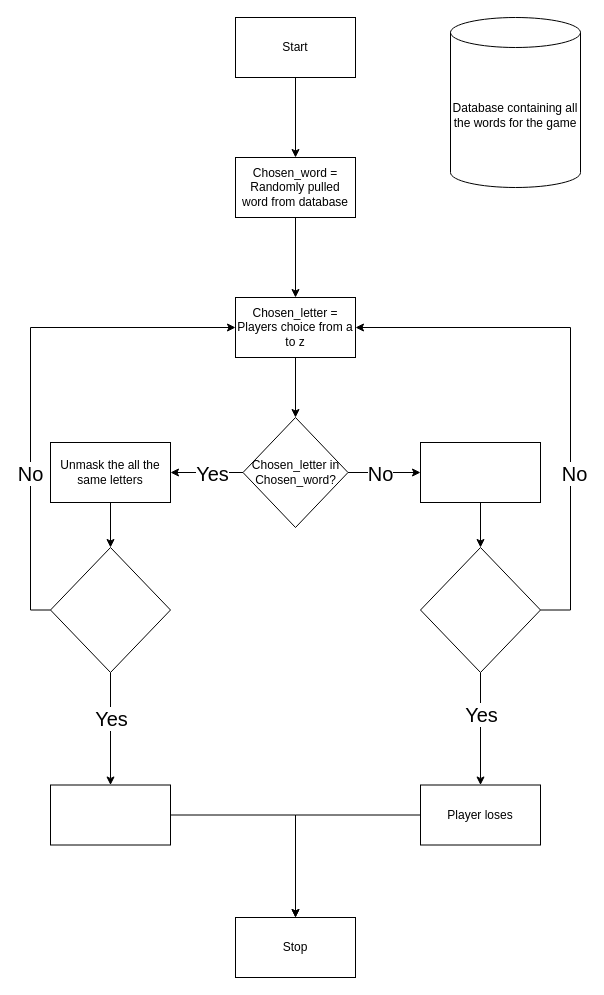
Image size: 604x995. Some labels were removed from this diagram. Each missing label, with the centre of its shape:
"Are lives 0?" belongs at point (480, 609).
"Chosen_word is unmasked completely?" belongs at point (110, 609).
"Hangman is drawn" belongs at point (480, 472).
"Player wins" belongs at point (110, 814).
